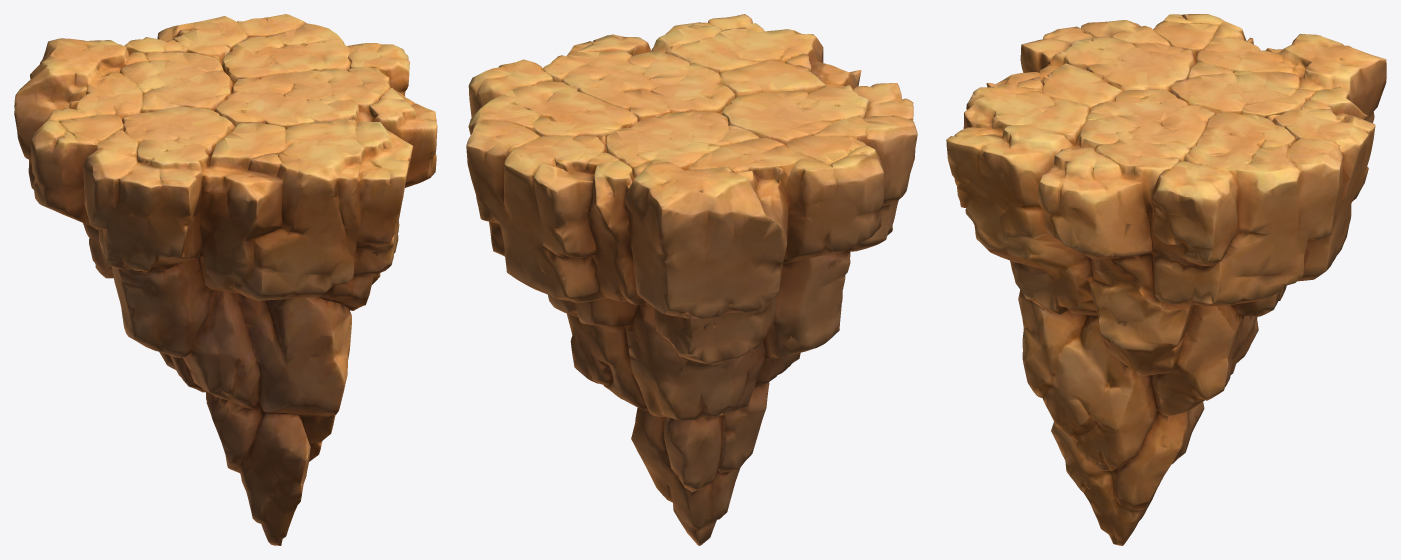
Rendered from R1_Island_SteppingStone.fbx.
The picture shows the model from 3 angles, left to right: view 1: azimuth 30°, elevation 25°; view 2: azimuth 150°, elevation 25°; view 3: azimuth 270°, elevation 25°; orthographic projection. The views are drawn at different scales.
Parts seen in each view (by area): view 1: R1_Island_SteppingStone; view 2: R1_Island_SteppingStone; view 3: R1_Island_SteppingStone.
Boxes of the visible parts, x1,y1,x2,y2 form: R1_Island_SteppingStone: (14,14,437,545); R1_Island_SteppingStone: (466,14,917,545); R1_Island_SteppingStone: (946,14,1386,545).
Size of the model in its own units: 340 by 380 by 340.
Materials: 1 (1 with a texture image).
